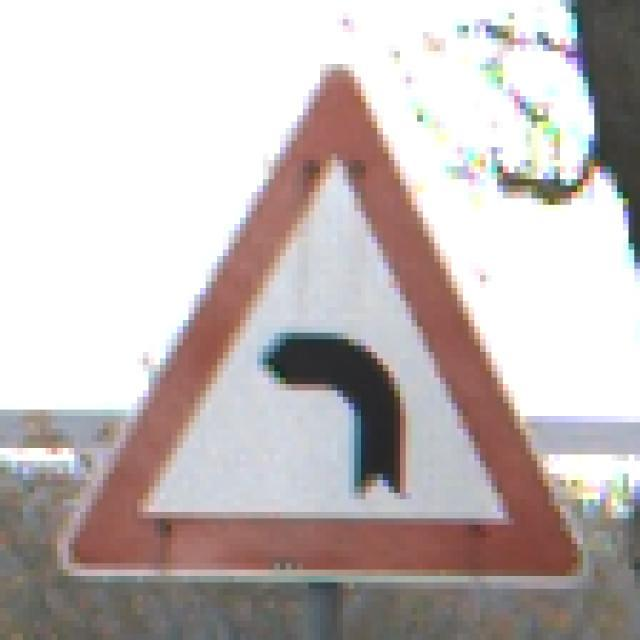left hand curve: (52, 58, 596, 585)
